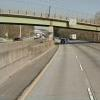Bridge: (3, 2, 98, 36)
